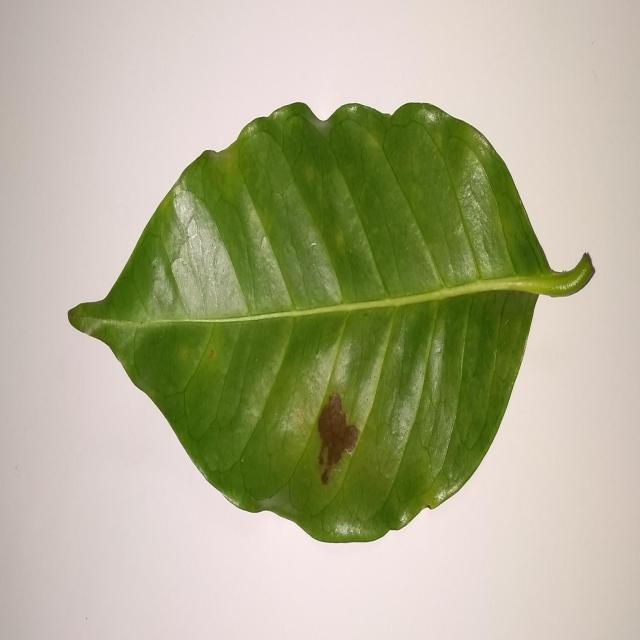Enfermedad-Antracnosis: (66, 102, 596, 546)
